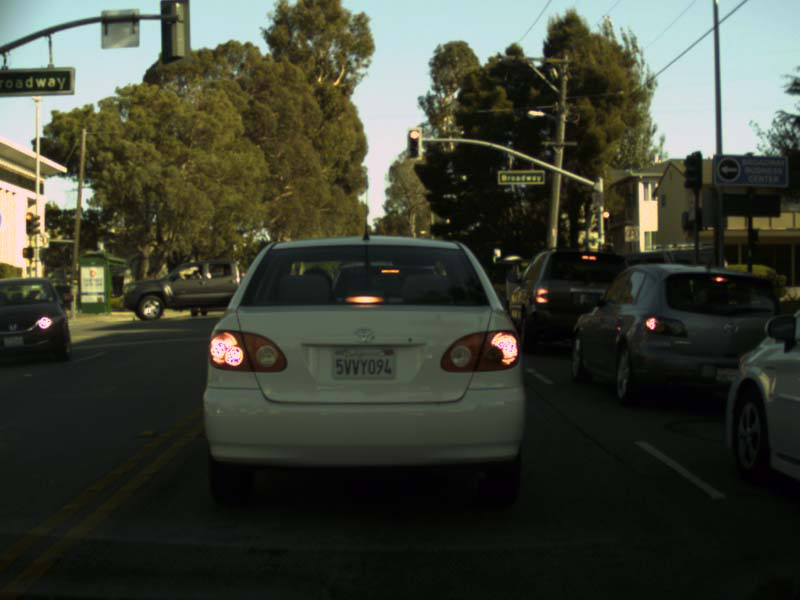Red: (408, 130, 419, 156), (602, 211, 609, 227)
